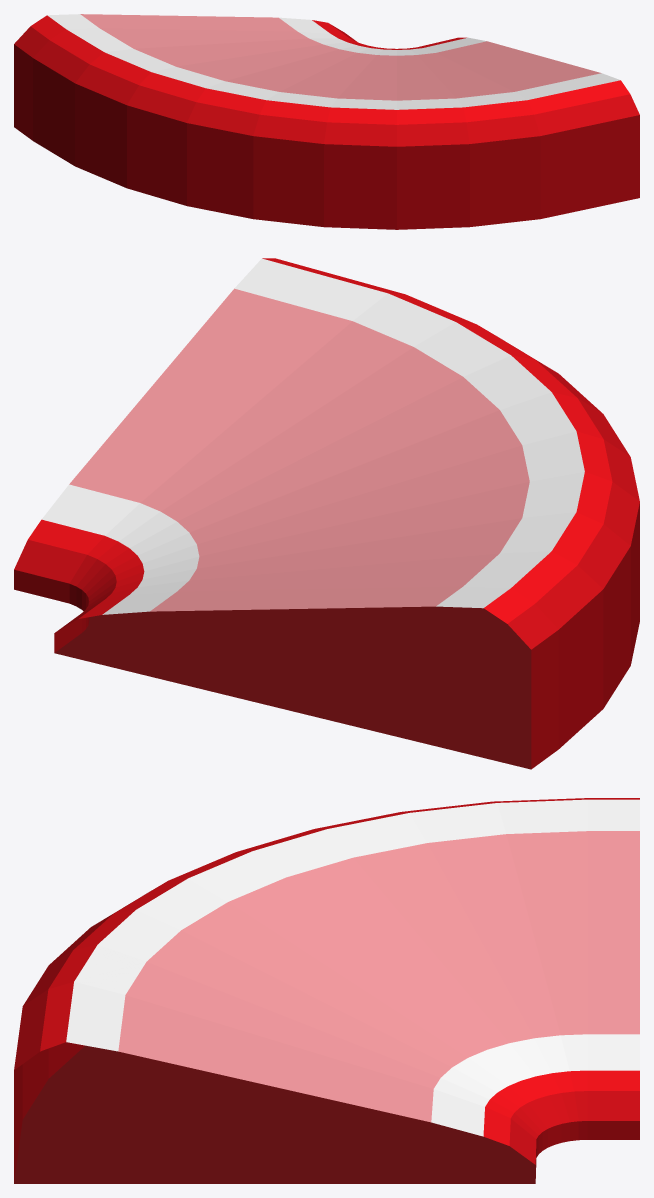
File: bankNew.fbx
The picture shows the model from 3 angles, top to bottom: view 1: azimuth 30°, elevation 25°; view 2: azimuth 150°, elevation 25°; view 3: azimuth 270°, elevation 25°; orthographic projection. The views are drawn at different scales.
Visible parts, largest first — view 1: BankedTurn.001; view 2: BankedTurn.001; view 3: BankedTurn.001.
Part boxes in pixels (box(x1,y1,x2,y2)): BankedTurn.001: box(14, 14, 639, 229); BankedTurn.001: box(14, 258, 639, 769); BankedTurn.001: box(14, 798, 639, 1183).
Size of the model in its own units: 12 by 3 by 12.
